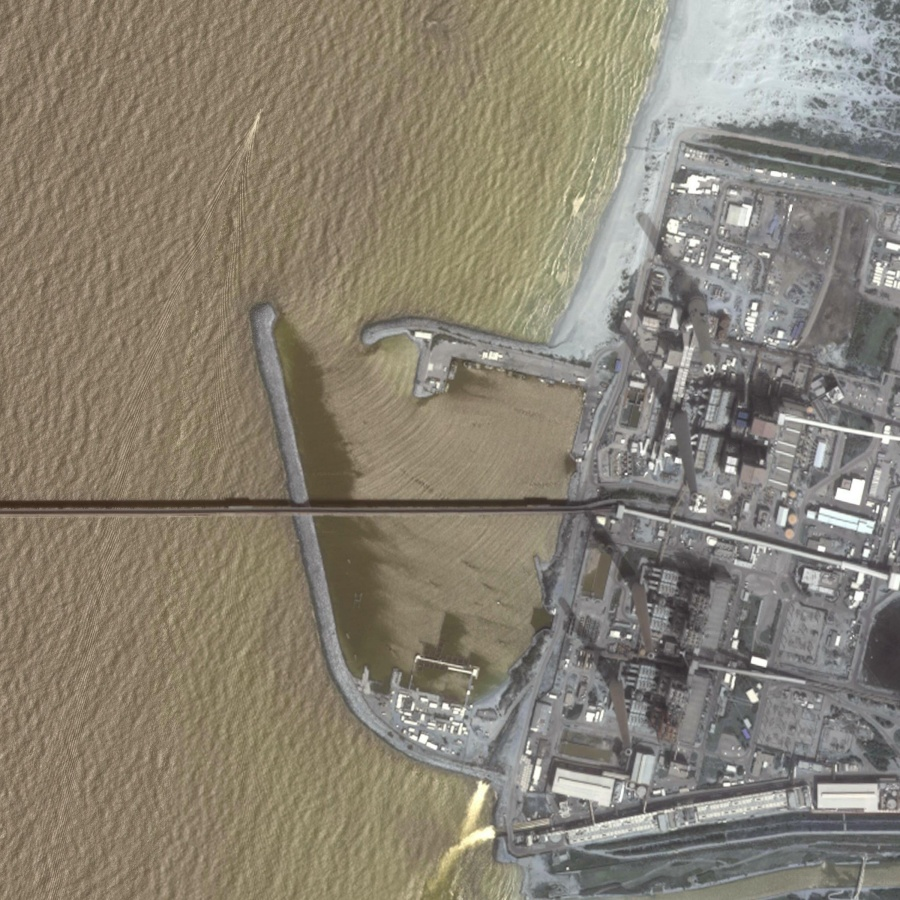PowerPlant: (525, 342, 786, 763)
